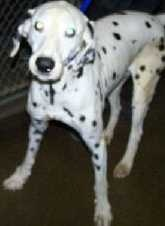Dog: (4, 1, 164, 203)
